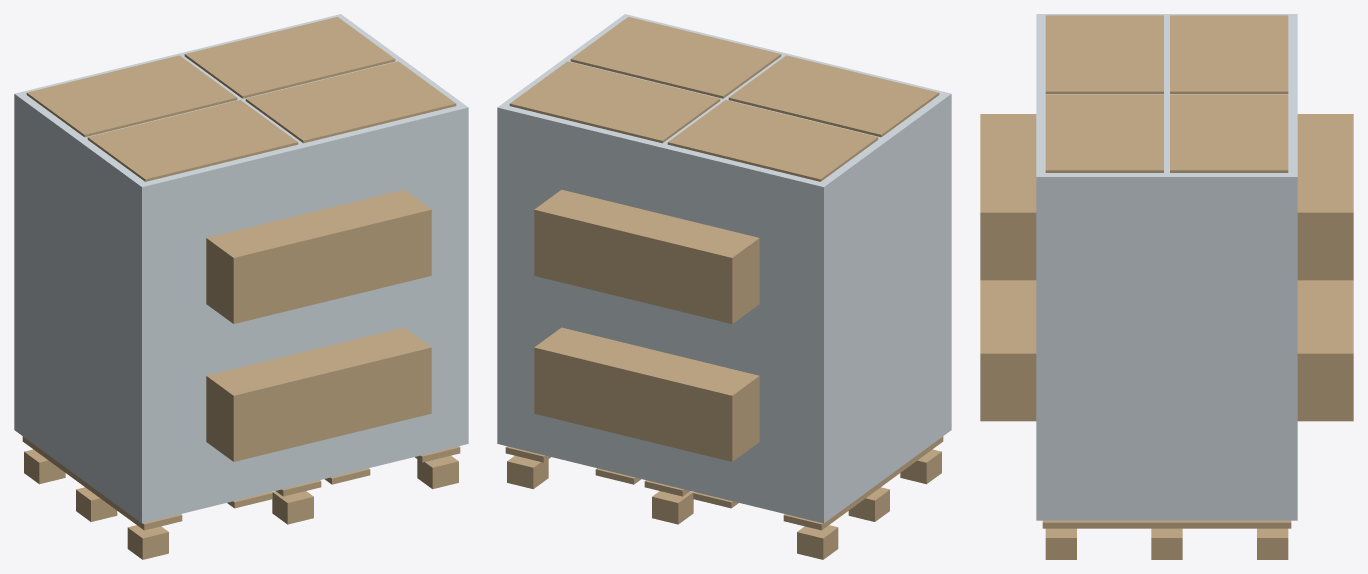
The model's file is SM_PALLET_LOAD.fbx.
3 views of the same model, side by side, from view 1: azimuth 30°, elevation 25°; view 2: azimuth 150°, elevation 25°; view 3: azimuth 270°, elevation 25° (orthographic). The views are drawn at different scales.
Visible parts, largest first — view 1: SM_PALLET_LOAD; view 2: SM_PALLET_LOAD; view 3: SM_PALLET_LOAD.
Boxes of the visible parts, left/top/right/bottom form: SM_PALLET_LOAD: left=14, top=14, right=468, bottom=559; SM_PALLET_LOAD: left=497, top=14, right=951, bottom=559; SM_PALLET_LOAD: left=980, top=14, right=1353, bottom=559.
Size of the model in its own units: 124 by 138 by 120.
